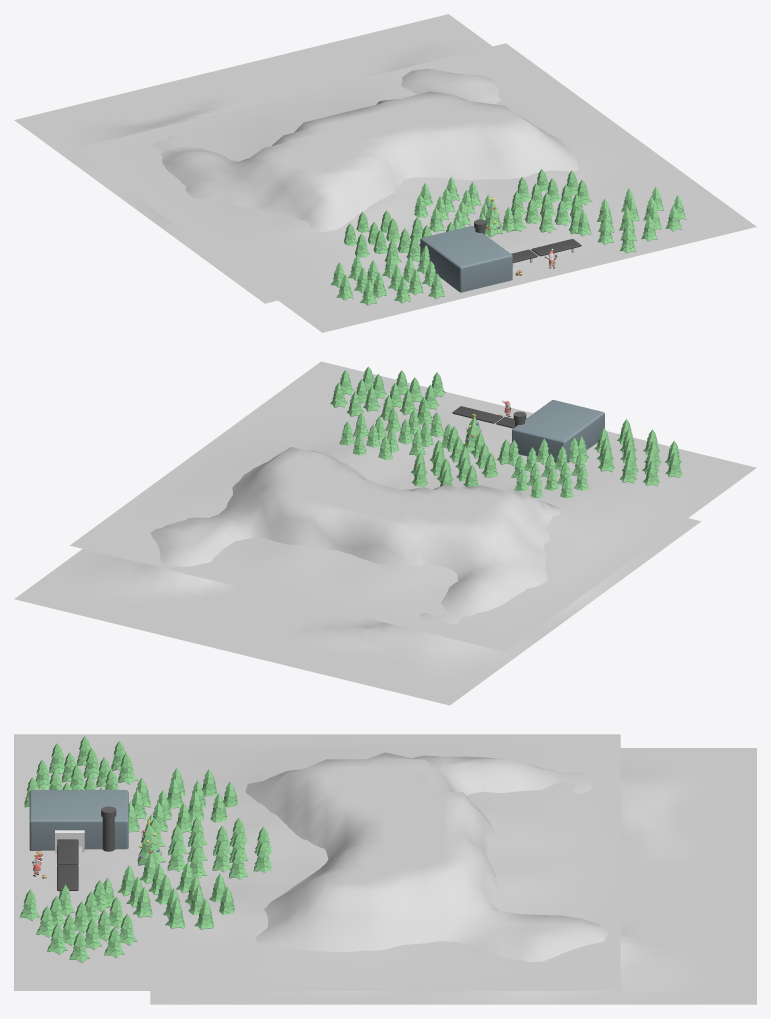
3 views of the same model, one above another, from view 1: azimuth 30°, elevation 25°; view 2: azimuth 150°, elevation 25°; view 3: azimuth 270°, elevation 25° (orthographic). The views are drawn at different scales.
Parts seen in each view (by area): view 1: Scene.1; view 2: Scene.1; view 3: Scene.1.
Part boxes in pixels (x1=…): Scene.1: x1=14, y1=14, x2=756, y2=332; Scene.1: x1=14, y1=361, x2=756, y2=705; Scene.1: x1=14, y1=734, x2=756, y2=1004.
Size of the model in its own units: 5012 by 640 by 6124.
